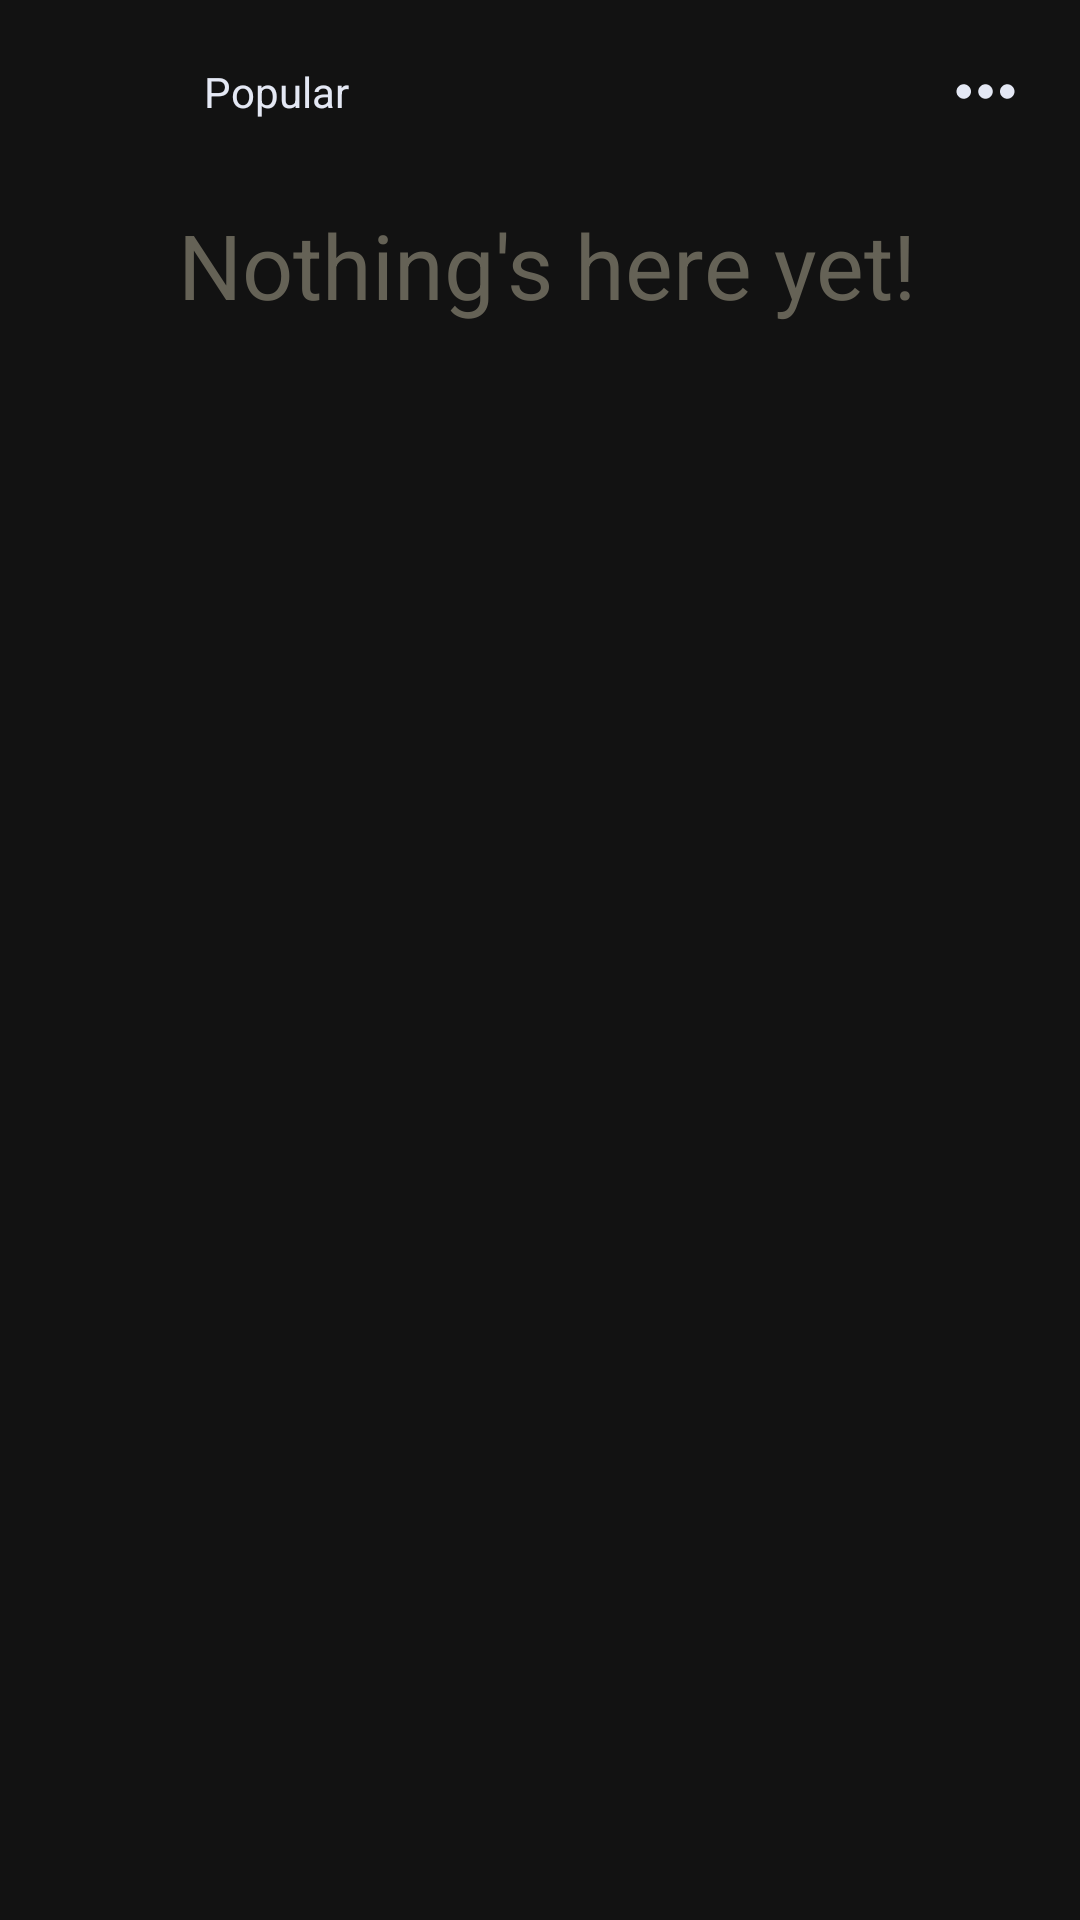

Locate icon controls on the screen. Image size 1080 x 1920, boxes as [x1=x1, y1=y1, x2=x2, y2=y2].
more horiz: [x1=956, y1=84, x2=1015, y2=99]
